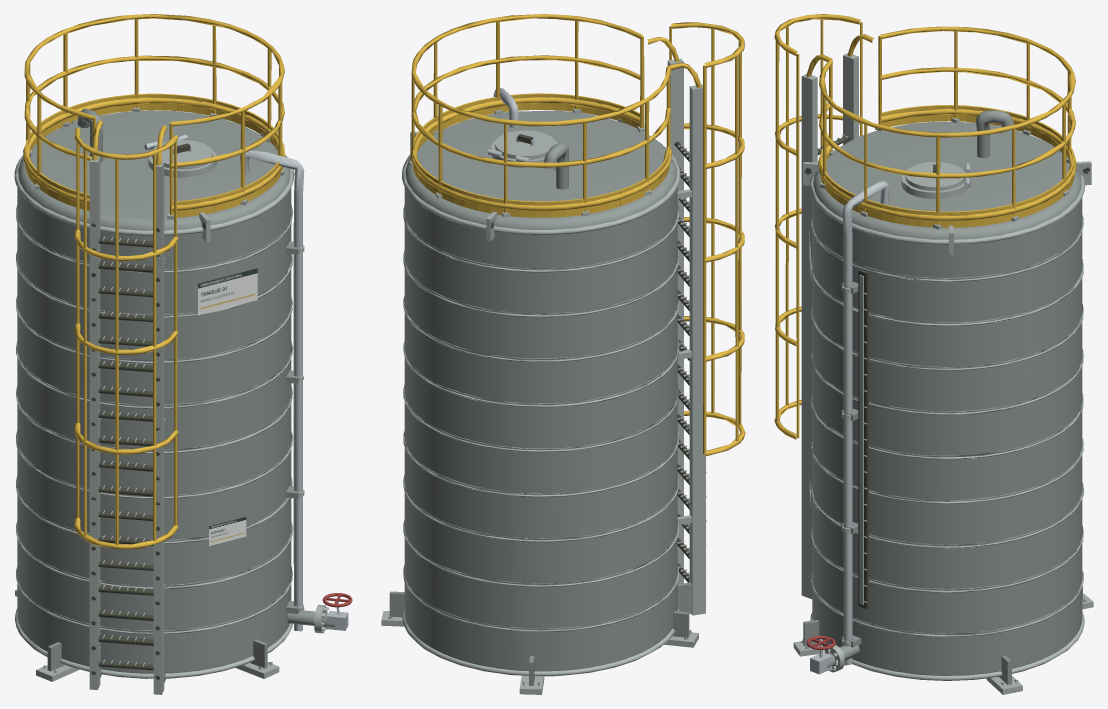
Rendered from silo.glb.
3 renders of one model, left to right at view 1: azimuth 30°, elevation 25°; view 2: azimuth 150°, elevation 25°; view 3: azimuth 270°, elevation 25°, orthographic.
Parts seen in each view (by area): view 1: Estrutura, Tampa_Inspecao; view 2: Estrutura, Tampa_Inspecao; view 3: Estrutura, Tampa_Inspecao.
Boxes of the visible parts, x1,y1,x2,y2 form: Estrutura: [14, 14, 352, 694]; Tampa_Inspecao: [152, 140, 212, 169]; Estrutura: [381, 14, 745, 694]; Tampa_Inspecao: [495, 130, 555, 159]; Estrutura: [774, 14, 1093, 694]; Tampa_Inspecao: [905, 162, 964, 190].
Bounding box in the file's own units: 3.04 × 6.12 × 3.19.
4 materials, 4 textured.
